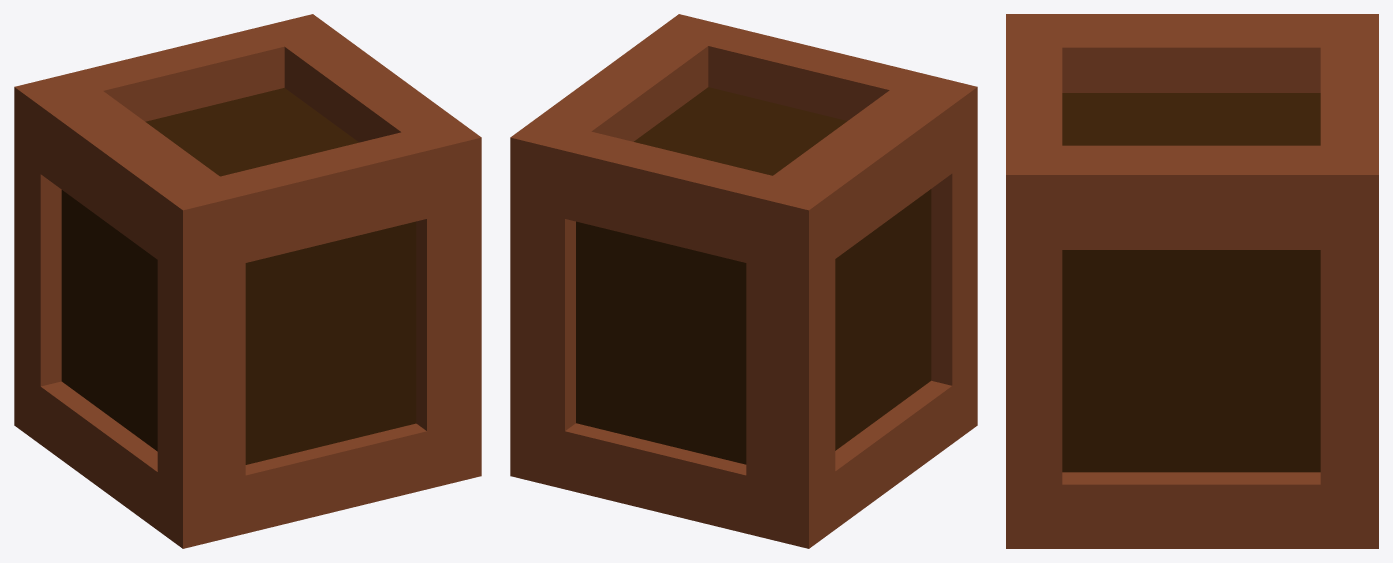
3 views of the same model, side by side, from view 1: azimuth 30°, elevation 25°; view 2: azimuth 150°, elevation 25°; view 3: azimuth 270°, elevation 25° (orthographic). The views are drawn at different scales.
Parts seen in each view (by area): view 1: Cube; view 2: Cube; view 3: Cube.
Boxes of the visible parts, box(x1,y1,x2,y2) form: Cube: box(14, 14, 481, 548); Cube: box(510, 14, 977, 548); Cube: box(1006, 14, 1378, 548).
Bounding box in the file's own units: 234 × 254 × 229.
